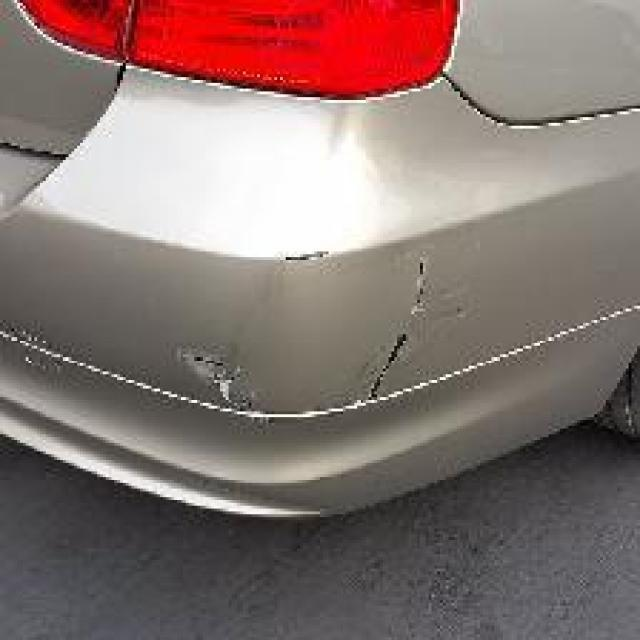damaged: (177, 343, 277, 443), (366, 252, 428, 412), (277, 252, 340, 272)
